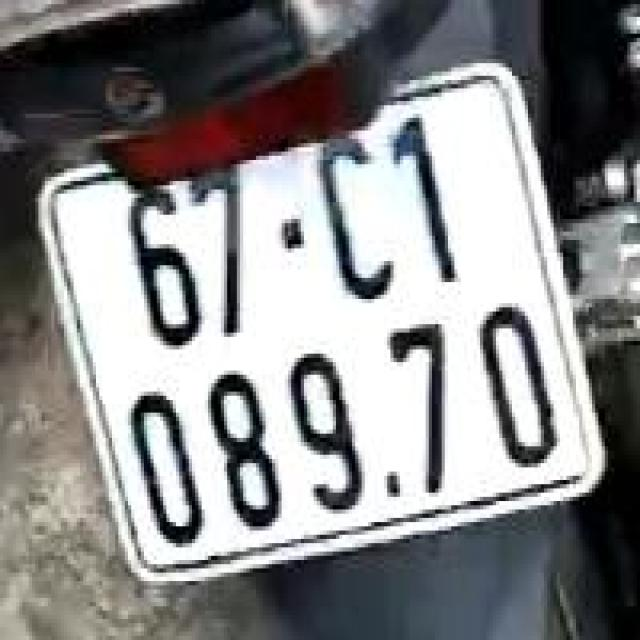0: (464, 289, 575, 485), (119, 372, 222, 560)
1: (376, 97, 493, 304)
6: (116, 178, 213, 368)
7: (372, 311, 468, 509), (184, 154, 263, 350)
8: (197, 348, 297, 542)
9: (277, 328, 379, 522)
C: (305, 119, 412, 322)
